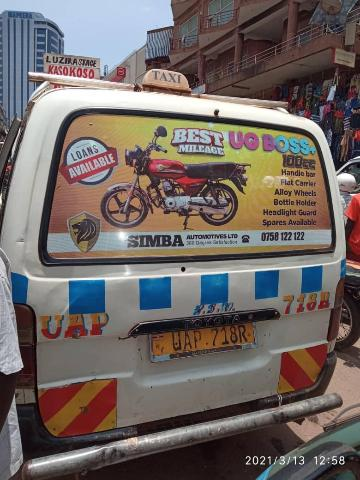van: (2, 69, 345, 476)
